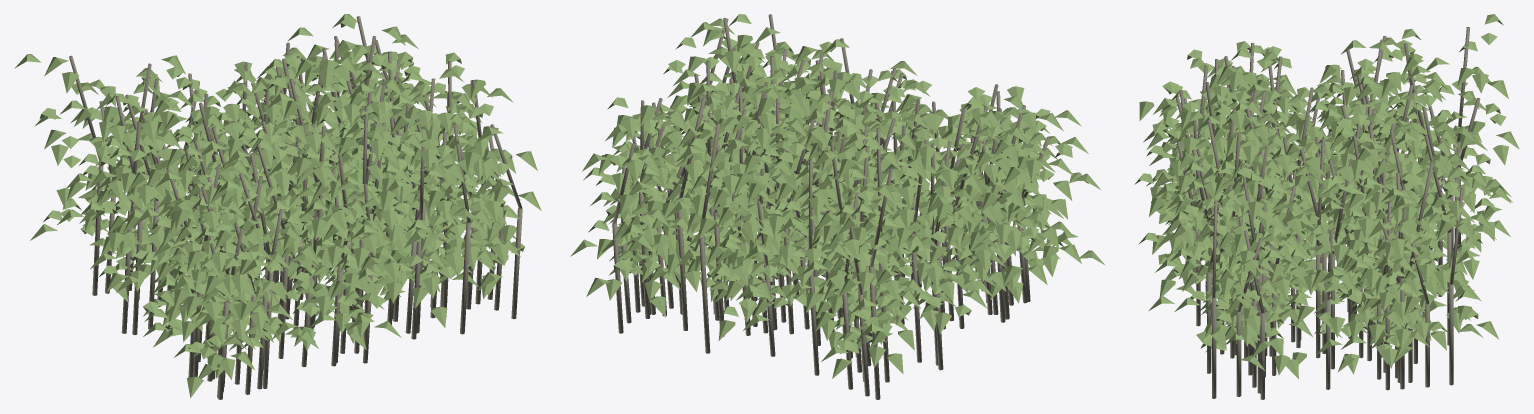
Rendered from dongpo-west-green.glb.
The picture shows the model from 3 angles, left to right: view 1: azimuth 30°, elevation 25°; view 2: azimuth 150°, elevation 25°; view 3: azimuth 270°, elevation 25°; orthographic projection. The views are drawn at different scales.
Visible parts, largest first — view 1: dongpo-west-green; view 2: dongpo-west-green; view 3: dongpo-west-green.
Part boxes in pixels (left/top/right/bottom): dongpo-west-green: left=14, top=14, right=541, bottom=399; dongpo-west-green: left=570, top=14, right=1105, bottom=399; dongpo-west-green: left=1134, top=14, right=1519, bottom=399.
Size of the model in its own units: 3.18 by 1.8 by 2.69.
